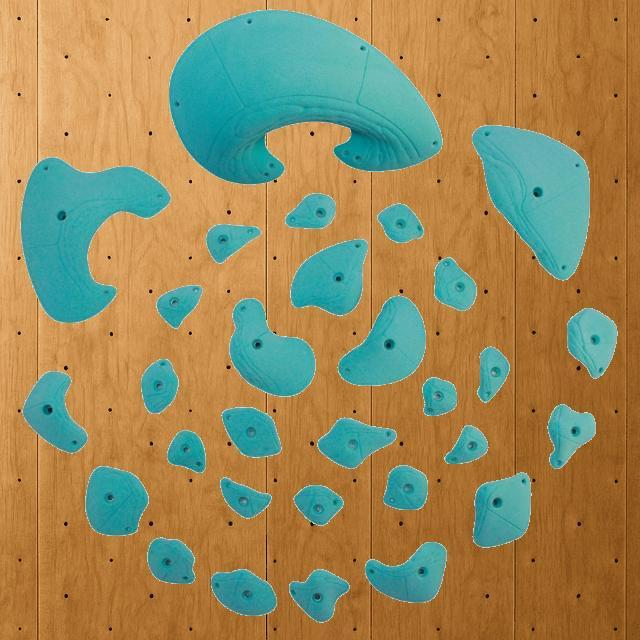Jug: (167, 8, 443, 184), (19, 155, 171, 323), (472, 124, 590, 280), (228, 297, 316, 397), (338, 294, 427, 386), (290, 238, 368, 314), (22, 370, 88, 454), (366, 542, 446, 604), (472, 471, 532, 547), (84, 466, 148, 536), (566, 306, 618, 378), (320, 419, 394, 469), (548, 404, 596, 468), (222, 408, 282, 458), (212, 570, 276, 616), (290, 570, 348, 620), (434, 258, 476, 312), (147, 538, 195, 584), (207, 224, 261, 264), (156, 284, 204, 328), (141, 360, 179, 414), (382, 466, 428, 510), (220, 478, 270, 518), (294, 485, 342, 525), (377, 203, 425, 243), (285, 193, 337, 229), (478, 348, 509, 402), (446, 426, 488, 464), (168, 431, 206, 473), (422, 378, 456, 416)
